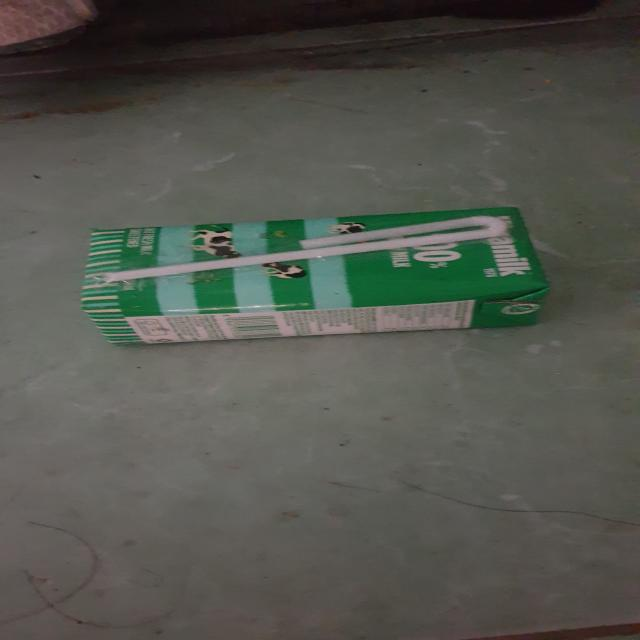Vina: (80, 204, 551, 350)
